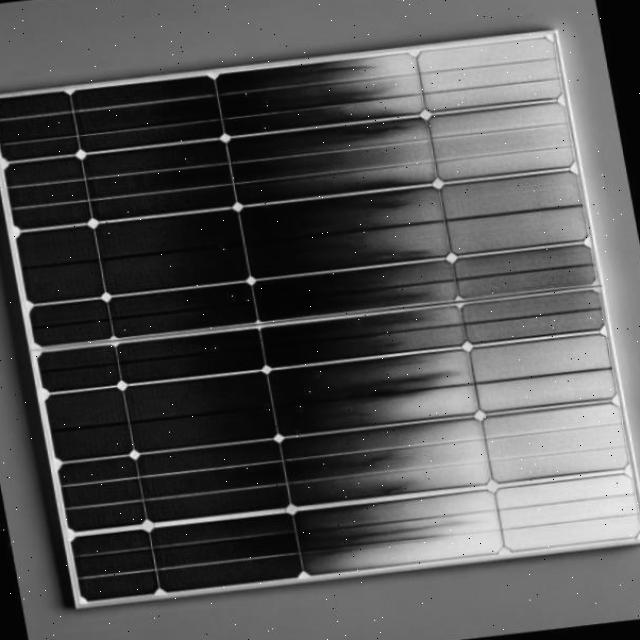Anomaly Solar Panel: (0, 37, 640, 608)
